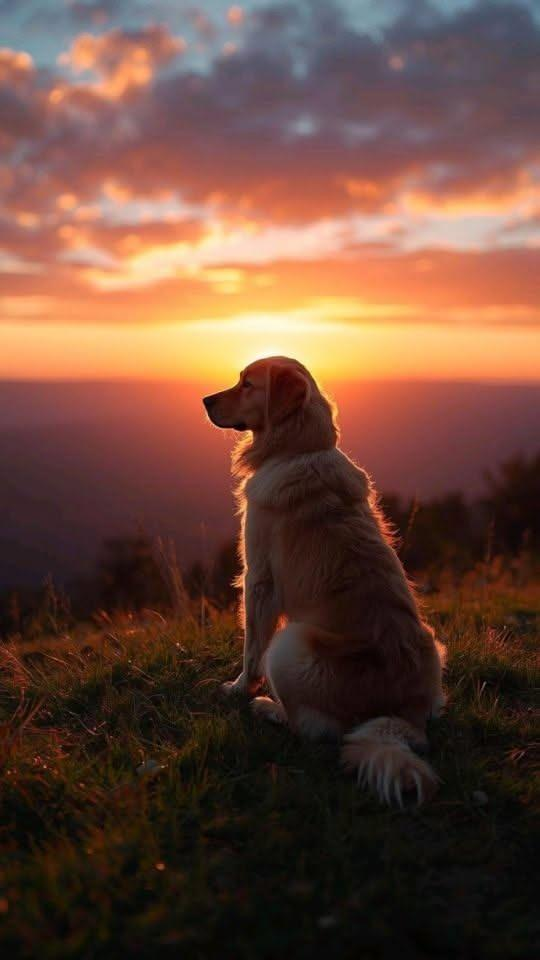adult_dog: (201, 355, 445, 810)
